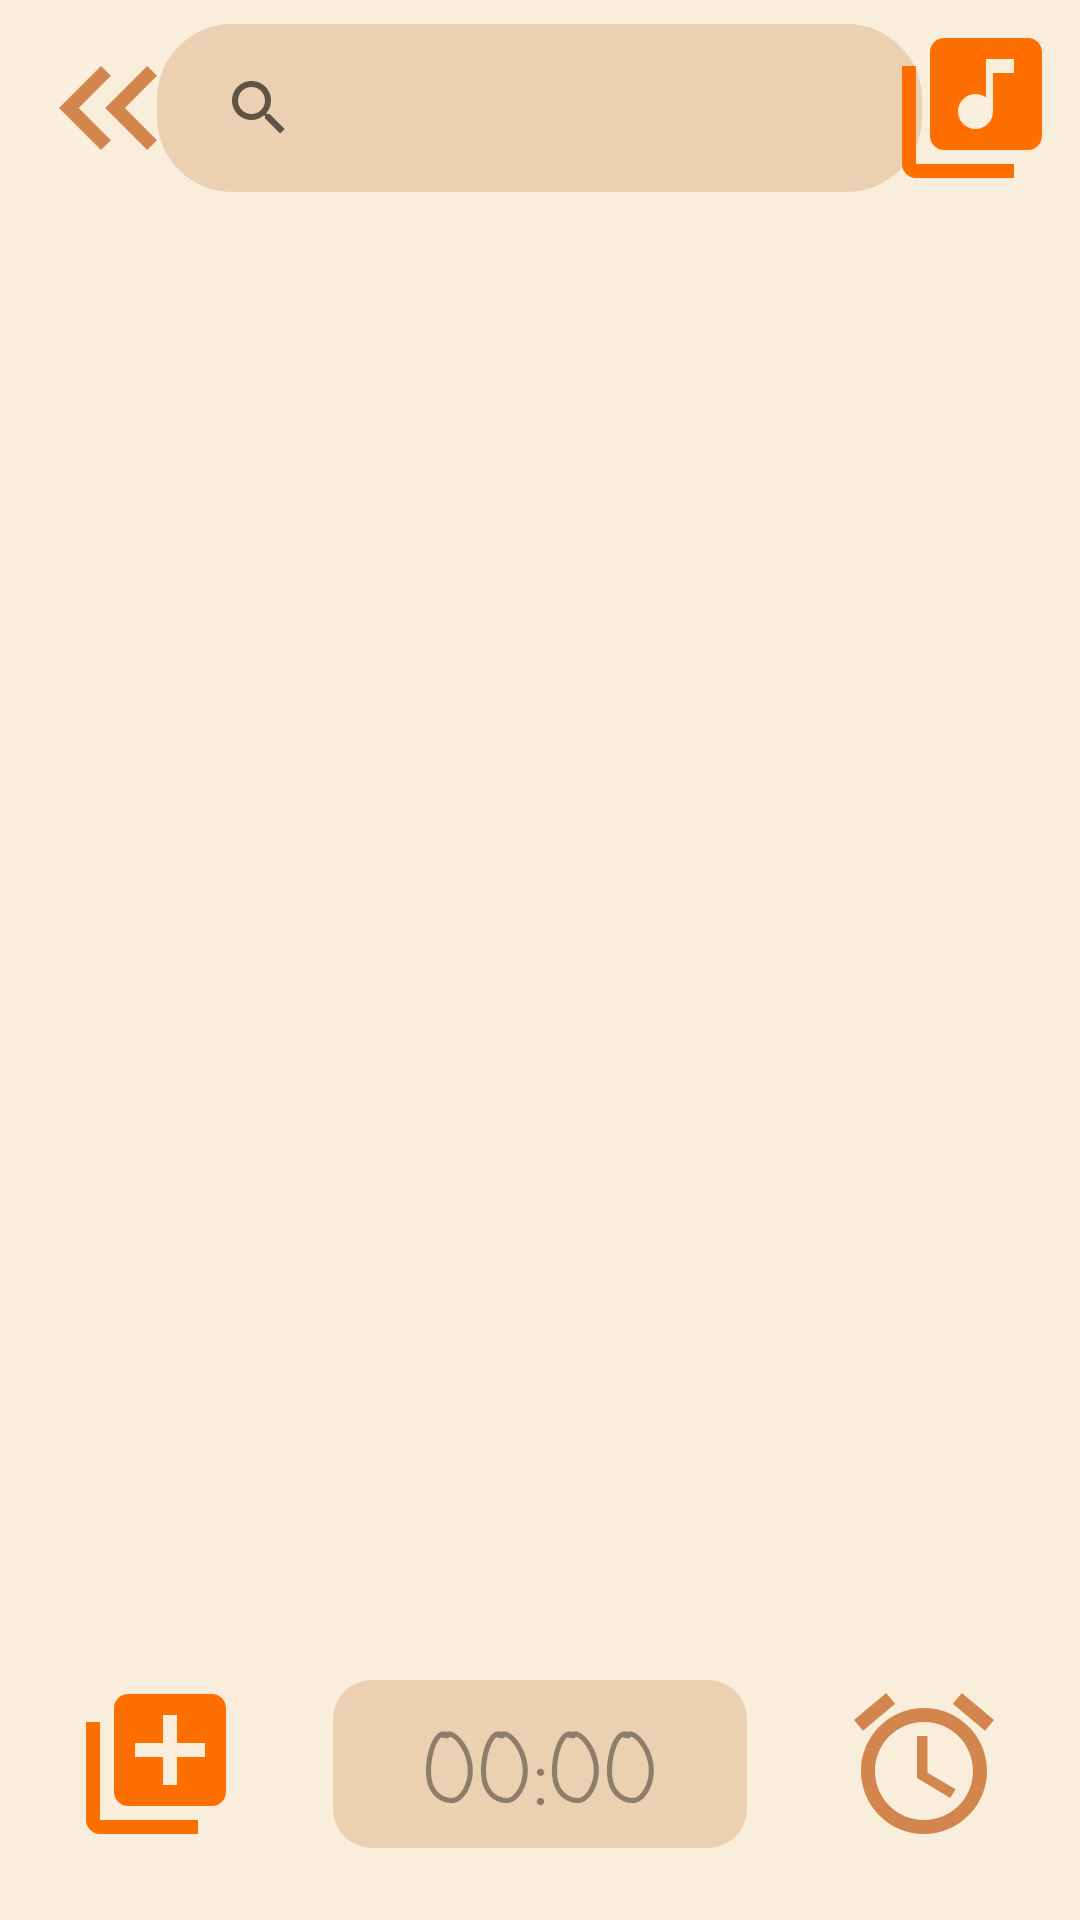

Named icons in this screenshot (1080 × 1920) and their bounding boxes, bbox=[x1, y1, x2, y2]:
library add: bbox=[86, 1694, 226, 1834]
music: bbox=[930, 38, 1042, 150]
timer: bbox=[854, 1693, 994, 1834]
